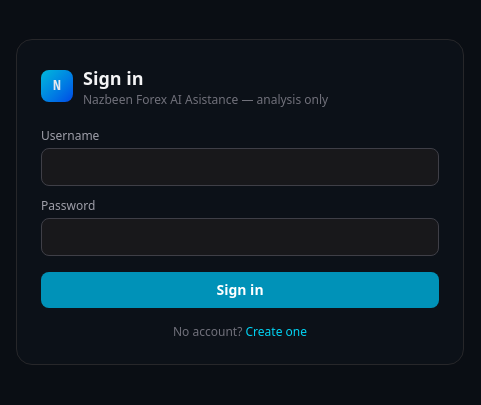
LoginPage › shows a server-unreachable hint when the backend is down
Type "trader1" into the field with test id "login-username" at coordinates (240, 167), box [41,148,439,186]
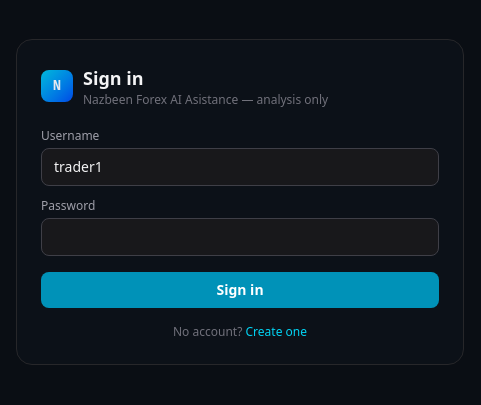
Type "pw" into the password field with test id "login-password" at coordinates (240, 237), box [41,218,439,256]
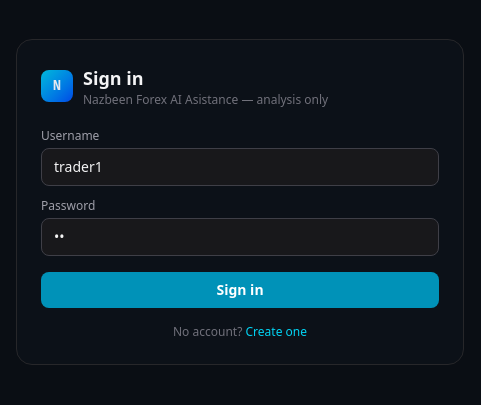
Click the button with test id "login-submit" at coordinates (240, 290), box [41,272,439,308]
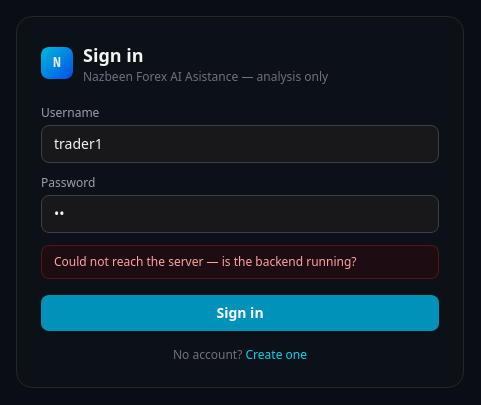
Result: the message with test id "login-error" shows "backend running" at [54,253,356,270]
